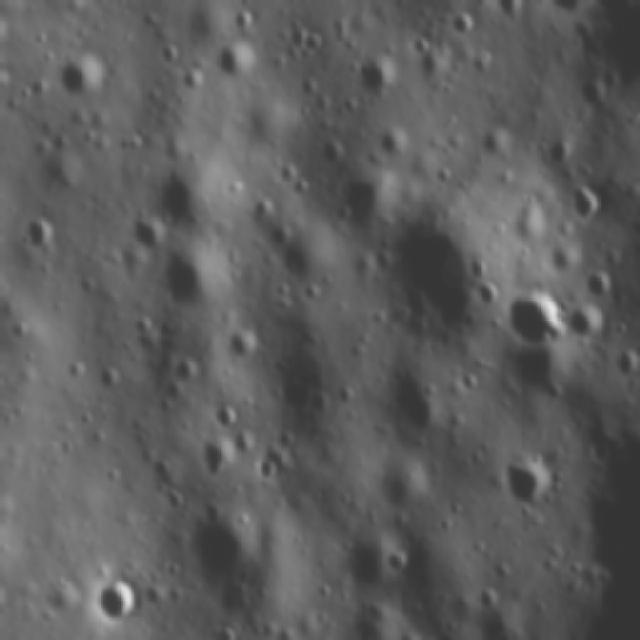crater: (387, 216, 481, 341), (189, 518, 263, 584), (378, 368, 444, 434), (155, 248, 216, 312), (152, 170, 213, 228), (498, 450, 558, 508), (502, 291, 562, 349), (54, 48, 109, 102), (116, 205, 167, 263), (338, 175, 389, 232), (15, 214, 70, 263), (93, 576, 136, 632), (352, 55, 399, 103), (215, 39, 260, 84), (195, 436, 232, 486), (566, 298, 608, 339), (472, 120, 514, 160), (566, 181, 602, 225), (466, 581, 511, 614), (544, 128, 576, 174), (444, 8, 482, 42), (578, 271, 616, 303), (248, 458, 284, 488), (406, 32, 439, 60), (382, 546, 409, 576), (213, 408, 239, 432)
